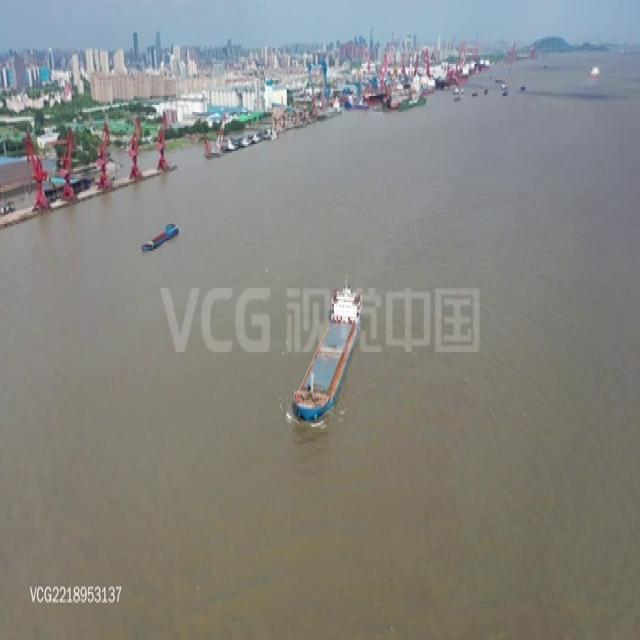cargoship: (293, 278, 364, 424), (138, 218, 181, 252)
